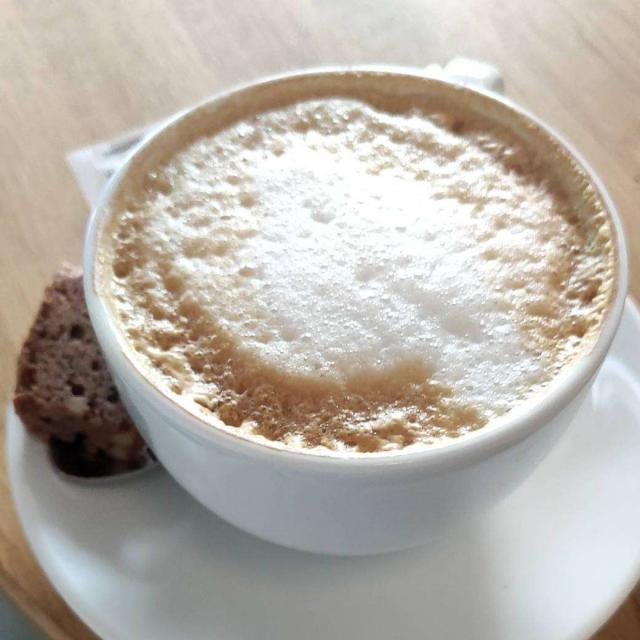cappuccino: (103, 89, 592, 442)
cookies: (19, 276, 162, 475)
